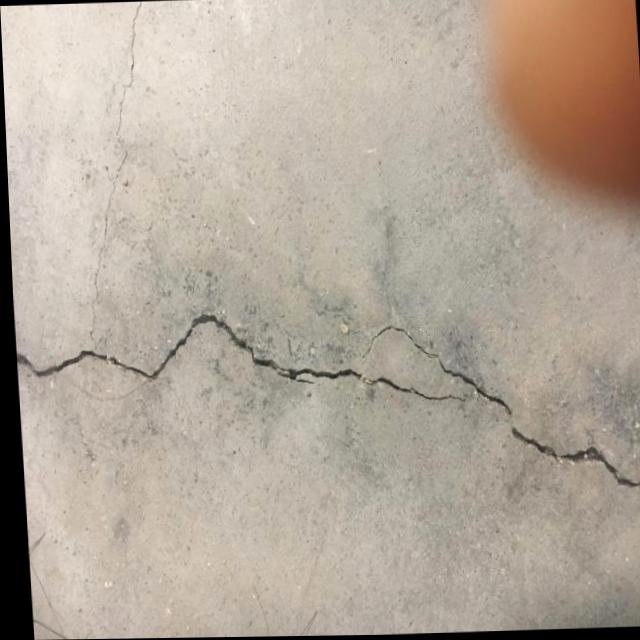Crack: (9, 261, 640, 560)
